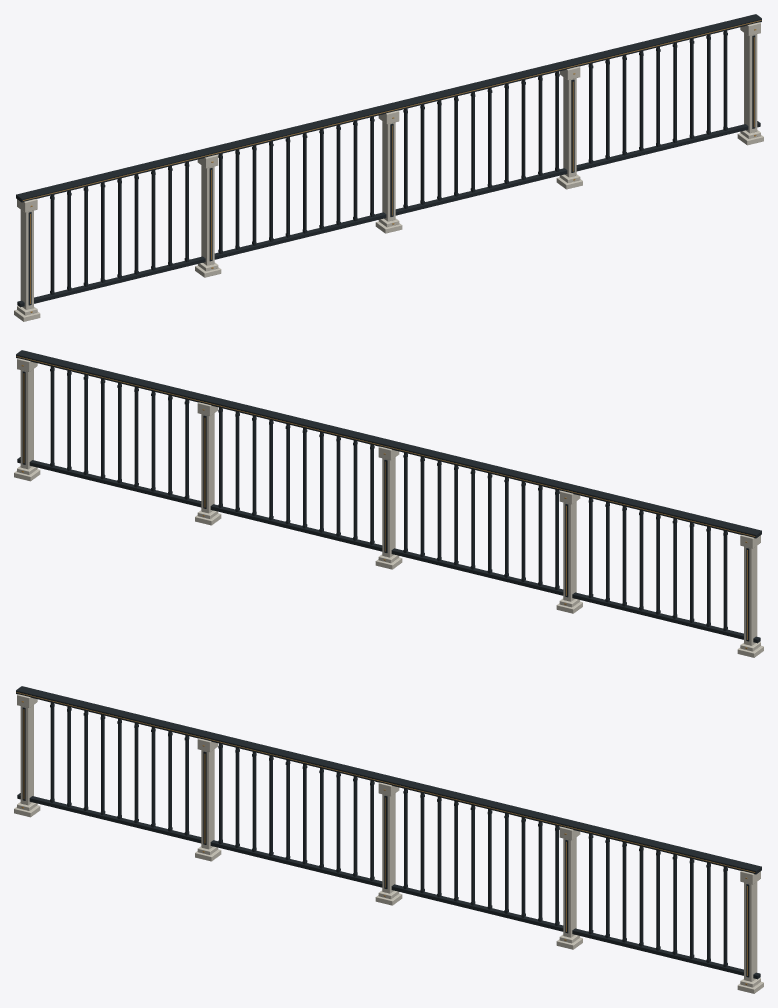
File: SM_Aurelion_KIT_Z04SouthRail.fbx
3 views of the same model, one above another, from view 1: azimuth 30°, elevation 25°; view 2: azimuth 150°, elevation 25°; view 3: azimuth 330°, elevation 25° (orthographic).
Visible parts, largest first — view 1: SM_Aurelion_KIT_Z04SouthRail; view 2: SM_Aurelion_KIT_Z04SouthRail; view 3: SM_Aurelion_KIT_Z04SouthRail.
Boxes of the visible parts, left/top/right/bottom form: SM_Aurelion_KIT_Z04SouthRail: left=14, top=14, right=763, bottom=321; SM_Aurelion_KIT_Z04SouthRail: left=14, top=350, right=763, bottom=657; SM_Aurelion_KIT_Z04SouthRail: left=14, top=686, right=763, bottom=993.
Size of the model in its own units: 700 by 16 by 110.
